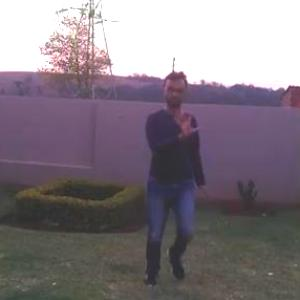follow_hand: (173, 107, 204, 138)
